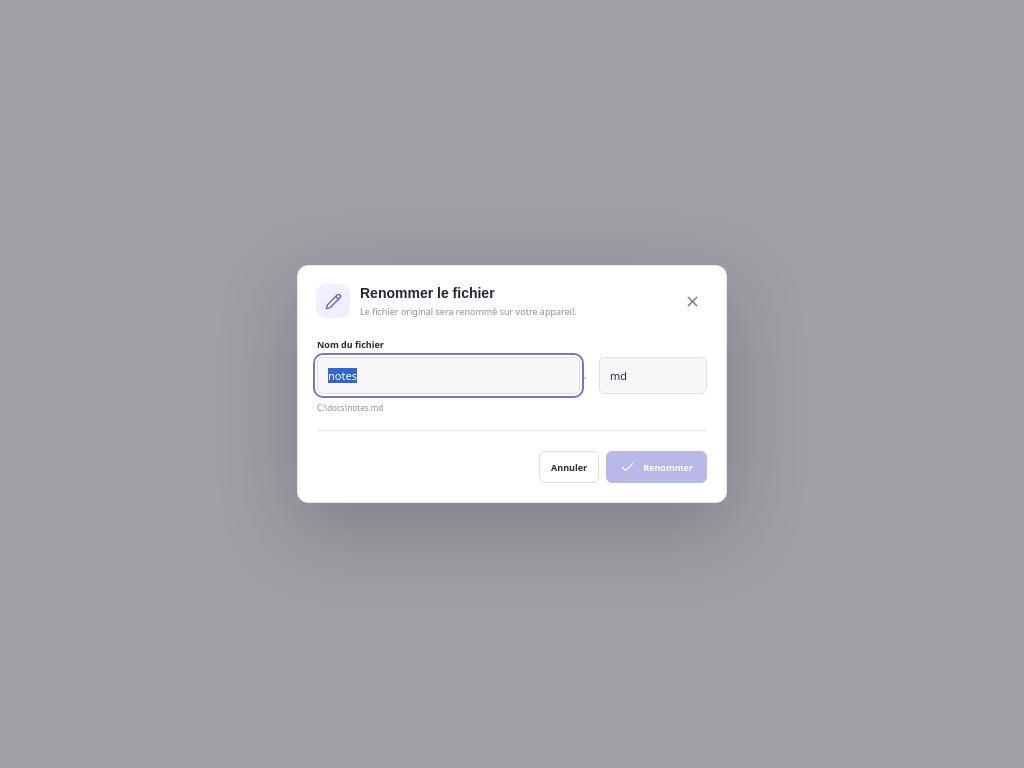
it: renommage avec extension › avertit quand l’extension change le lecteur utilisé
The width and height of the screenshot is (1024, 768).
Clear the field named "Extension du fichier, sans le point" at (653, 376), box [599,357,707,394]
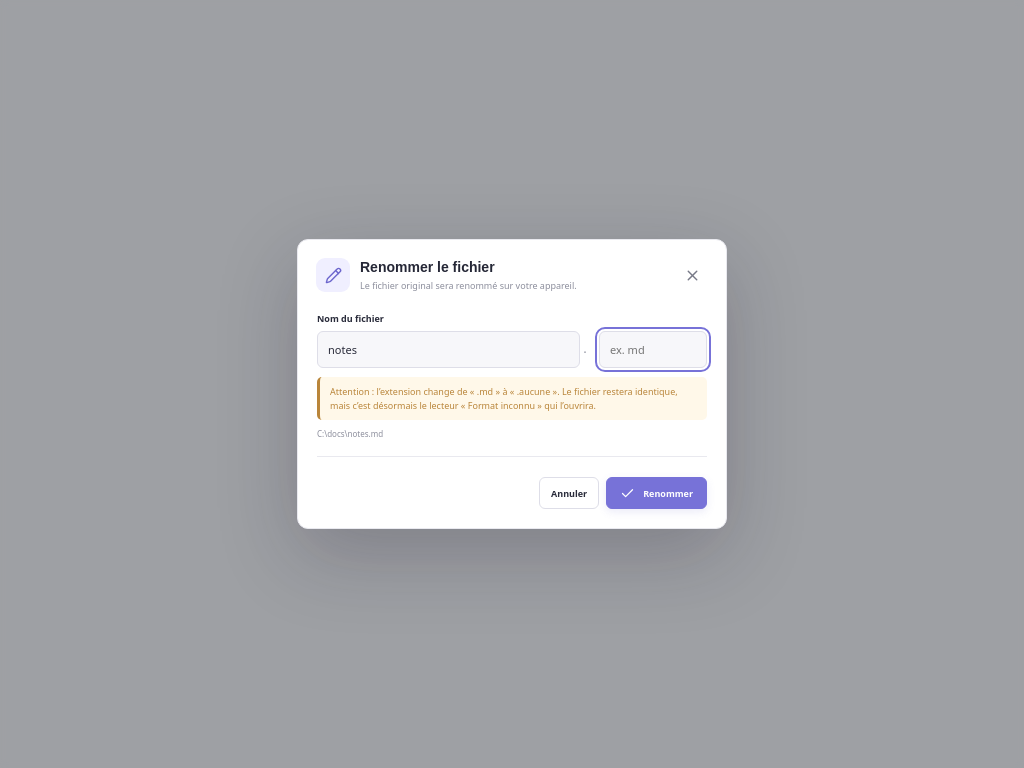
Type "txt" into the field named "Extension du fichier, sans le point" at (653, 350), box [599,331,707,368]
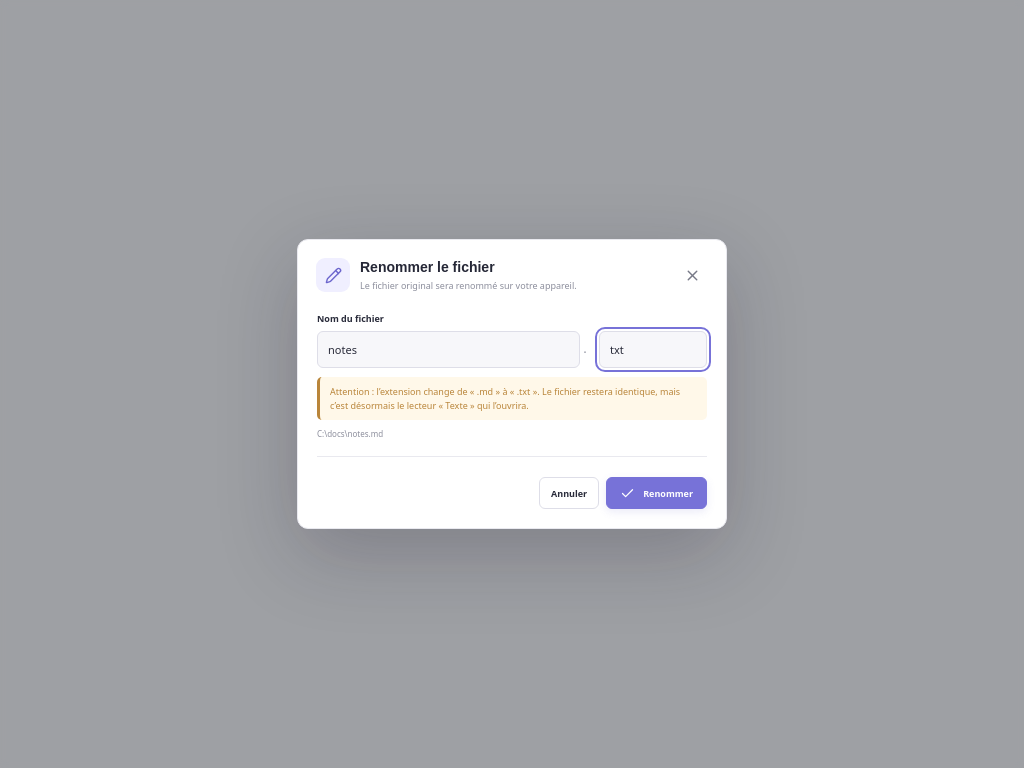
Expected: the message shows "Texte", [330,385,680,412]
